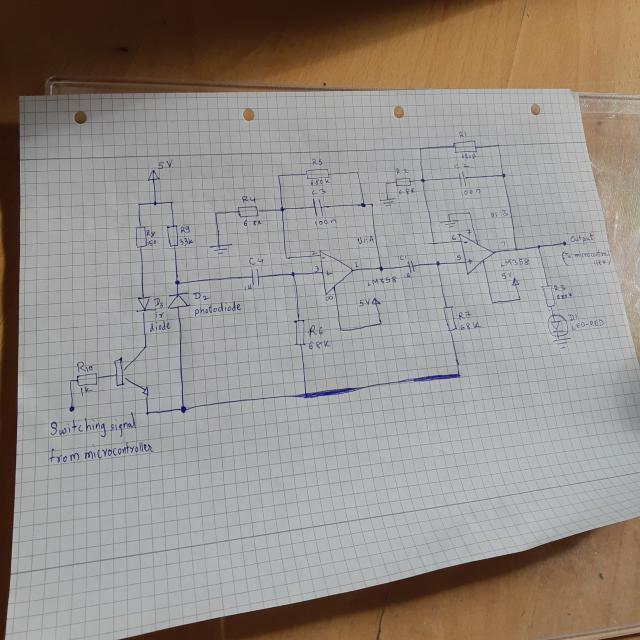capacitor: (458, 170, 467, 188), (251, 268, 260, 286), (313, 198, 322, 216), (407, 260, 415, 273)
diode: (546, 314, 568, 338), (165, 290, 191, 310), (135, 295, 156, 314)
ground: (209, 242, 233, 255), (378, 197, 396, 207), (552, 338, 570, 348), (440, 220, 459, 228)
junction: (173, 278, 181, 286), (302, 391, 310, 399), (290, 271, 297, 278), (179, 406, 187, 412), (144, 409, 150, 417), (378, 265, 384, 272), (435, 260, 441, 267), (420, 177, 426, 184), (67, 378, 73, 384), (279, 206, 285, 212), (361, 201, 366, 208), (501, 172, 506, 178), (214, 211, 219, 217), (276, 173, 282, 178), (495, 142, 500, 148), (284, 254, 289, 260), (137, 201, 142, 206), (168, 200, 173, 205), (338, 327, 343, 332), (378, 320, 383, 325), (152, 200, 156, 206), (418, 146, 422, 152), (355, 171, 360, 175), (384, 181, 388, 186), (514, 247, 518, 252), (432, 241, 436, 246), (536, 244, 540, 248), (370, 202, 374, 206), (457, 373, 460, 378), (468, 210, 471, 214), (518, 296, 521, 300), (447, 212, 450, 216), (491, 301, 494, 304)
resistor: (540, 283, 556, 308), (76, 372, 98, 388), (134, 224, 148, 249), (236, 204, 260, 218), (453, 140, 478, 153), (294, 319, 306, 345), (444, 306, 456, 331), (305, 168, 330, 180), (166, 224, 178, 248), (394, 177, 412, 187)
source: (146, 169, 161, 182), (510, 277, 520, 287), (371, 298, 380, 306)
terminal: (69, 406, 74, 413), (562, 240, 566, 246)
text: (48, 440, 154, 466), (50, 412, 136, 438), (561, 247, 611, 265), (194, 301, 241, 316), (570, 318, 604, 332), (570, 232, 596, 246), (367, 275, 396, 286), (148, 321, 172, 334), (500, 257, 530, 267), (308, 338, 330, 349), (459, 186, 481, 197), (308, 323, 324, 337), (76, 360, 93, 372), (193, 290, 210, 302), (243, 218, 263, 228), (489, 209, 508, 219), (460, 321, 481, 330), (357, 234, 374, 245), (314, 218, 336, 226), (556, 291, 573, 301), (309, 178, 332, 185), (157, 159, 173, 169), (241, 194, 257, 204), (458, 310, 472, 321), (179, 236, 194, 246), (248, 256, 264, 265), (80, 385, 92, 397), (310, 157, 324, 167), (398, 187, 415, 195), (153, 297, 164, 309), (461, 152, 477, 159), (396, 167, 410, 175), (154, 310, 165, 320), (311, 188, 326, 195), (358, 298, 370, 306), (500, 271, 512, 279), (180, 225, 190, 234), (454, 163, 469, 169), (146, 229, 156, 238), (554, 284, 565, 292), (455, 252, 463, 262), (147, 239, 157, 247), (458, 129, 466, 138), (569, 313, 578, 321), (244, 283, 252, 292), (398, 253, 408, 260), (465, 228, 473, 236), (403, 272, 411, 280), (324, 269, 332, 277), (451, 232, 458, 241), (324, 295, 334, 301), (313, 264, 319, 272), (500, 240, 506, 247), (354, 260, 359, 268), (467, 258, 473, 264), (311, 250, 318, 255), (463, 240, 468, 246), (321, 256, 326, 260)
transistor: (114, 344, 150, 395)
